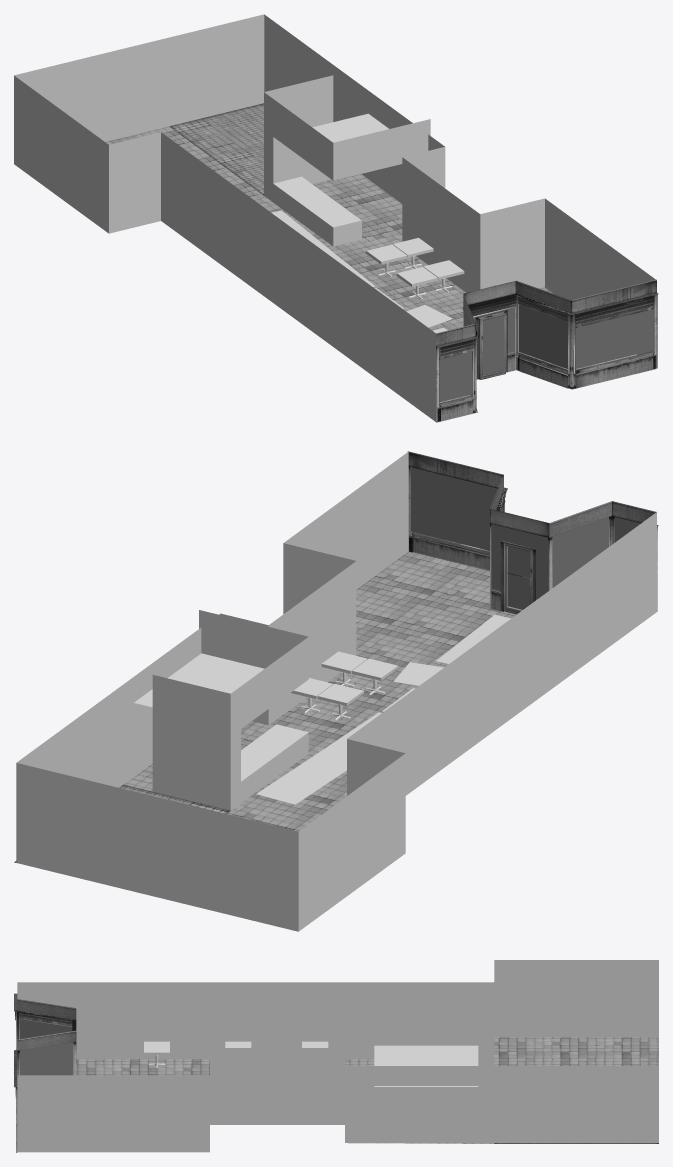
The model's file is ruby_palace_interior.fbx.
The picture shows the model from 3 angles, top to bottom: view 1: azimuth 30°, elevation 25°; view 2: azimuth 150°, elevation 25°; view 3: azimuth 270°, elevation 25°; orthographic projection. The views are drawn at different scales.
Parts seen in each view (by area): view 1: Plane001, Object001, interior_exit, Object, ruby_palace_windows, Object002, exit_door, mat_001, table_005, table_003; view 2: Plane001, Object001, Object, ruby_palace_windows, interior_exit, mat_001, exit_door, mat_004, table_005, table_003, table_002, mat_003; view 3: Plane001, Object, Object001, interior_exit, ruby_palace_windows, table_OG.
Boxes of the visible parts, x1,y1,x2,y2 form: Plane001: [14, 14, 655, 421]; Object001: [264, 75, 430, 246]; interior_exit: [436, 279, 658, 422]; Object: [105, 126, 655, 422]; ruby_palace_windows: [439, 304, 653, 401]; Object002: [169, 103, 263, 195]; exit_door: [479, 312, 505, 379]; mat_001: [271, 210, 375, 286]; table_005: [366, 244, 407, 276]; table_003: [397, 267, 437, 299]; Plane001: [16, 451, 656, 931]; Object001: [134, 610, 308, 810]; Object: [124, 551, 516, 831]; ruby_palace_windows: [411, 467, 640, 598]; interior_exit: [407, 451, 658, 611]; mat_001: [256, 712, 381, 804]; exit_door: [504, 543, 532, 614]; mat_004: [436, 614, 510, 663]; table_005: [317, 683, 363, 720]; table_003: [352, 658, 398, 694]; table_002: [321, 651, 367, 686]; mat_003: [393, 662, 443, 685]; Plane001: [17, 960, 658, 1152]; Object: [76, 1037, 658, 1143]; Object001: [374, 1013, 494, 1086]; interior_exit: [14, 993, 76, 1152]; ruby_palace_windows: [20, 1019, 72, 1075]; table_OG: [144, 1041, 169, 1068].
Size of the model in its own units: 1250 by 453 by 2944.
